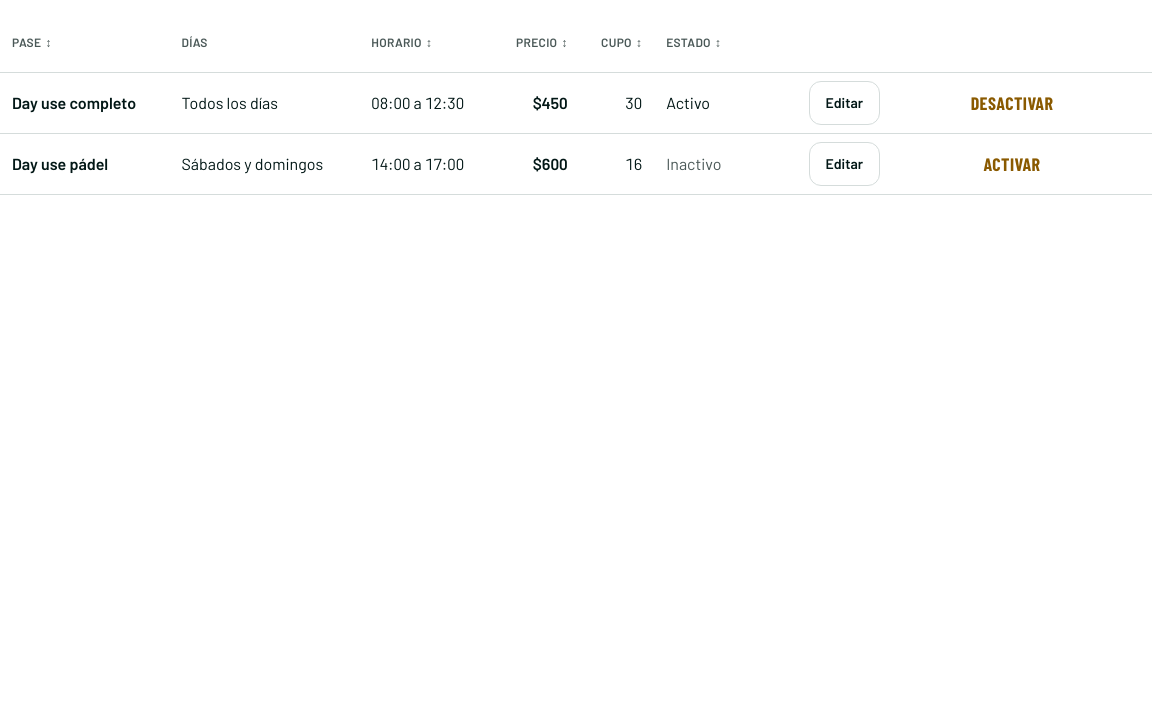
ProductsTable › edits a pass in a sheet and turns it on or off from the row
The width and height of the screenshot is (1152, 720).
Click the button "Activar" at [1012, 164], box [884,142,1140,186]
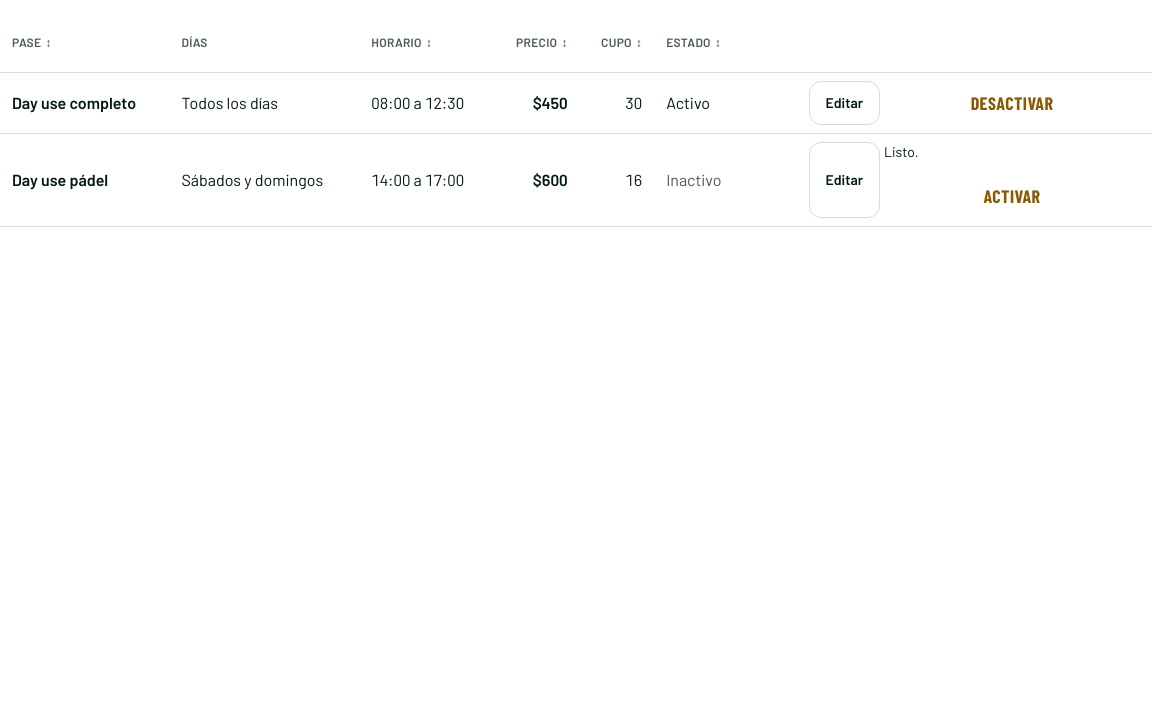
Click the button with aria-label "Editar Day use pádel" at [844, 180], box [808,142,880,218]
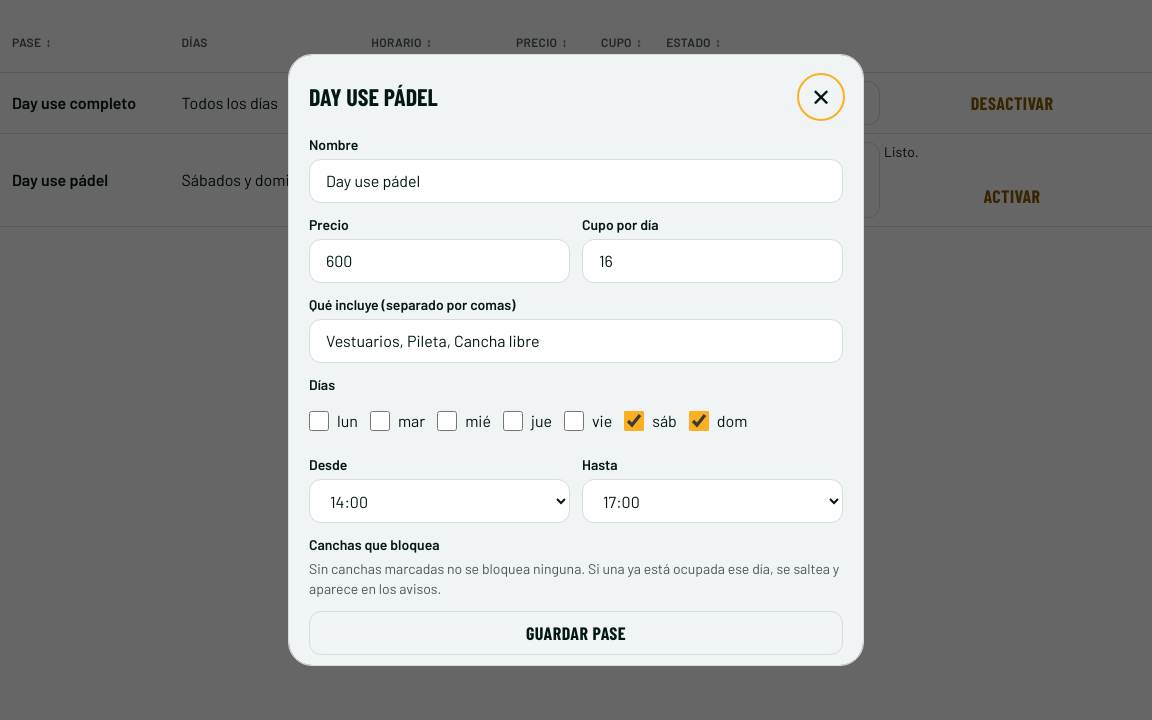
Now the button "Guardar pase" is shown, box [309,611,843,655]
